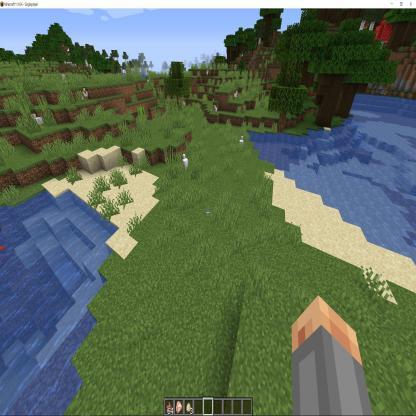minecraft-pigs: (182, 182, 212, 249), (206, 148, 210, 158)
